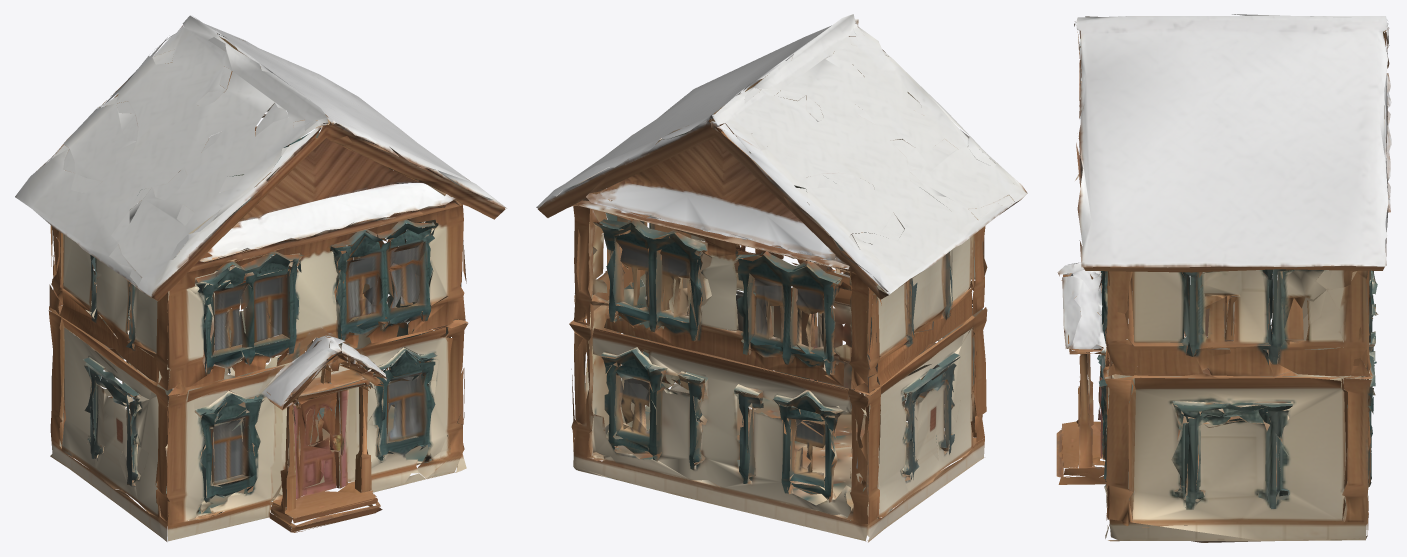
Rendered from unified--detail--village-house.glb.
3 views of the same model, side by side, from view 1: azimuth 30°, elevation 25°; view 2: azimuth 150°, elevation 25°; view 3: azimuth 270°, elevation 25° (orthographic). The views are drawn at different scales.
Parts seen in each view (by area): view 1: village-house-0; view 2: village-house-0; view 3: village-house-0.
Boxes of the visible parts, bbox=[...] form: village-house-0: bbox=[15, 15, 506, 541]; village-house-0: bbox=[536, 14, 1027, 542]; village-house-0: bbox=[1056, 14, 1391, 542].
Bounding box in the file's own units: 8.05 × 8.67 × 5.89.
Materials: 1 (1 with a texture image).
